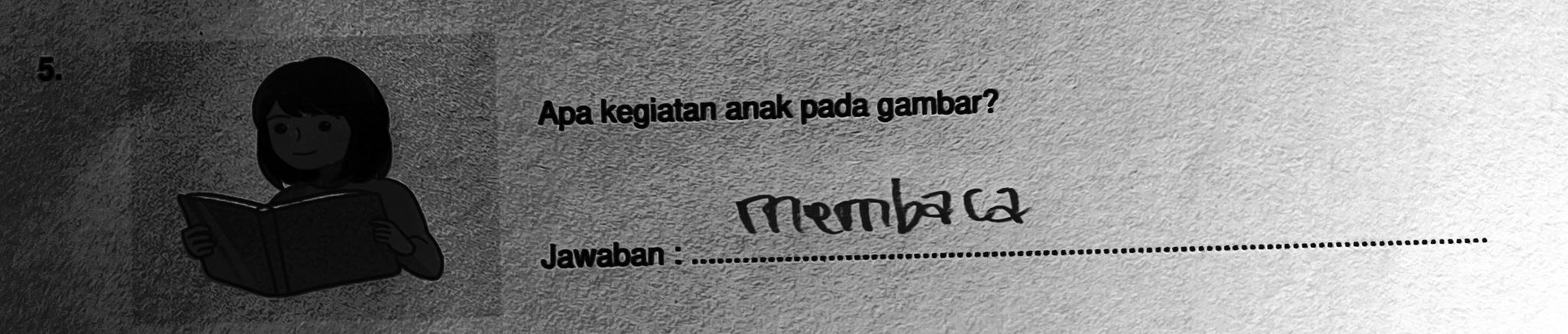jawaban: (733, 169, 1025, 246)
